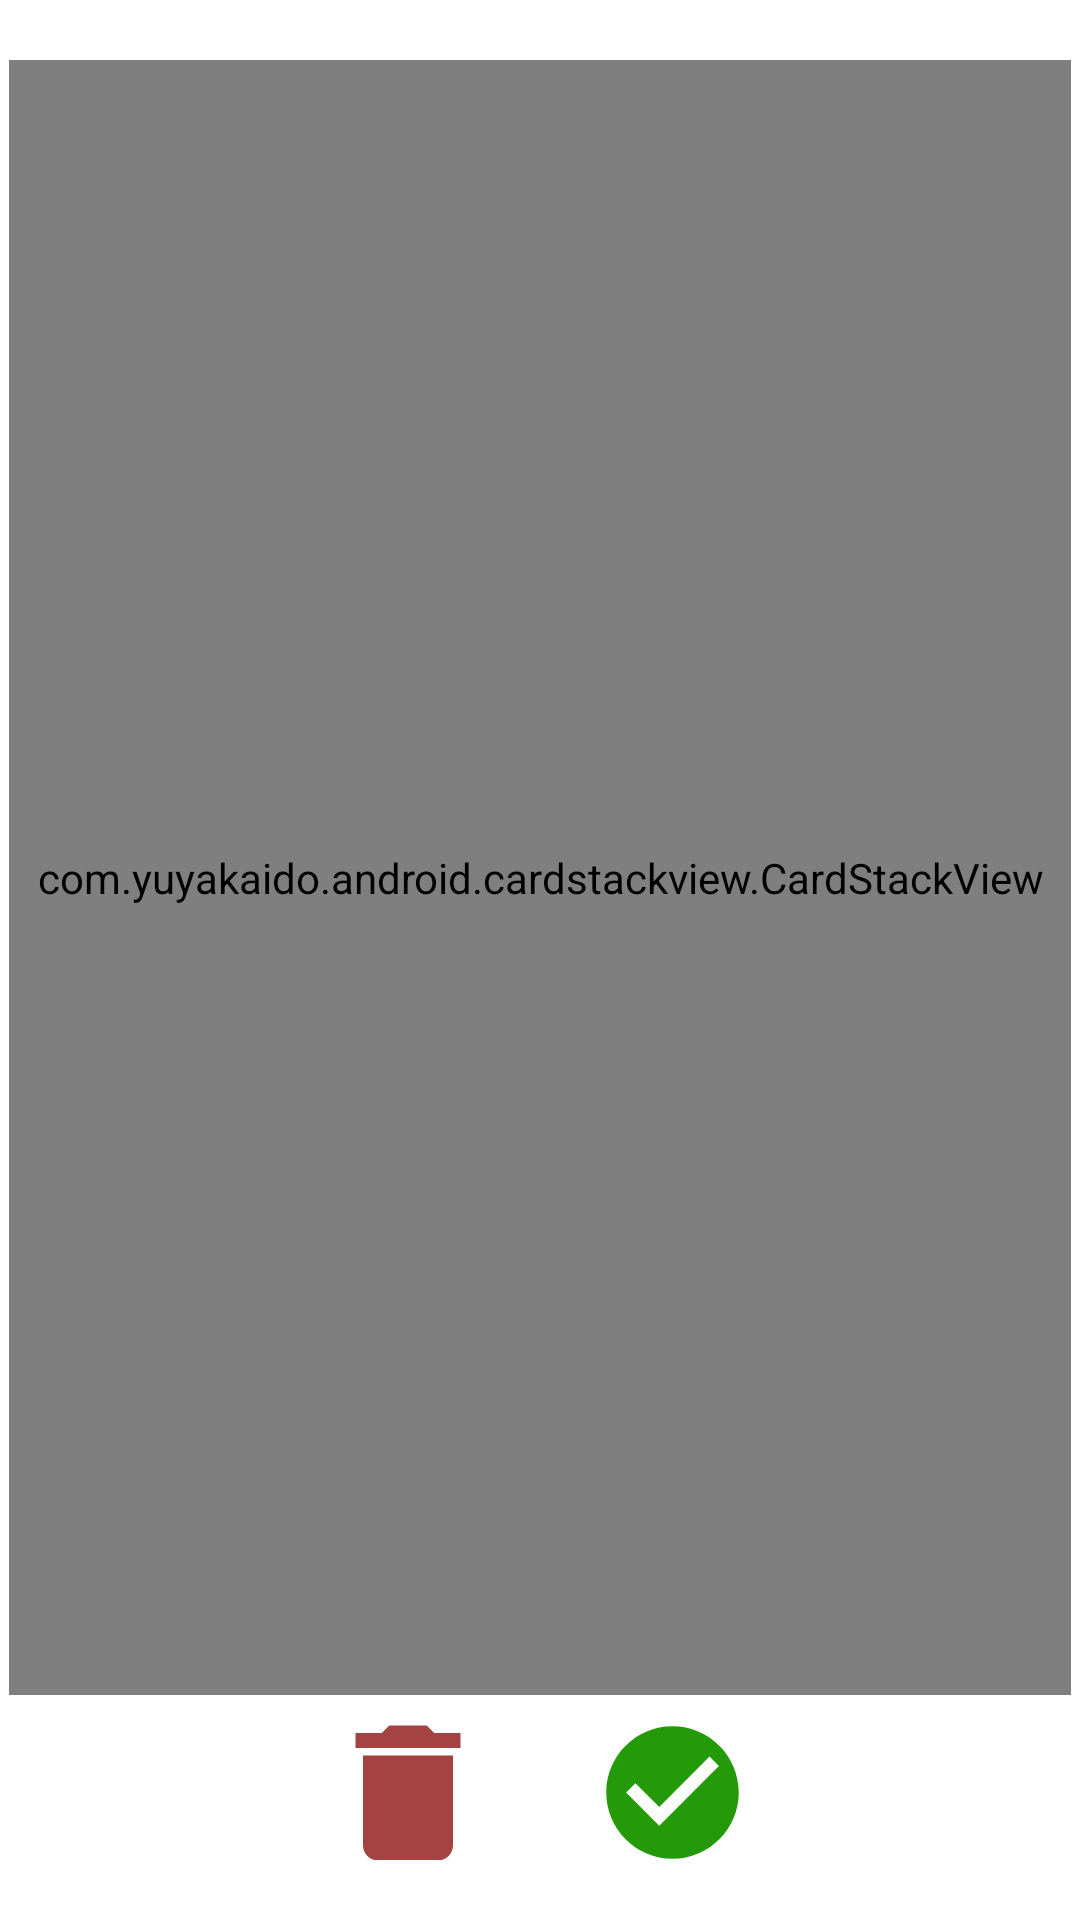

Icons on this 1080px x 1920px Android screen, each with its box as (x1, y1, x2, y2):
check circle: (606, 1726, 739, 1859)
delete: (355, 1725, 461, 1860)
